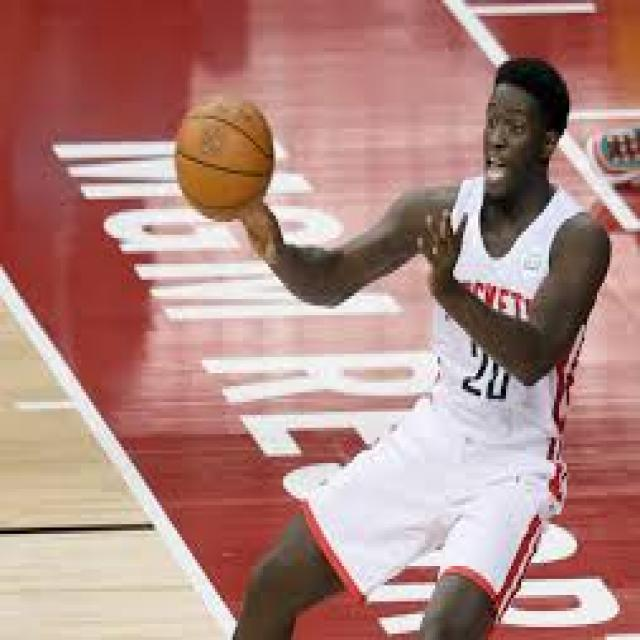rim: (177, 96, 276, 216)
